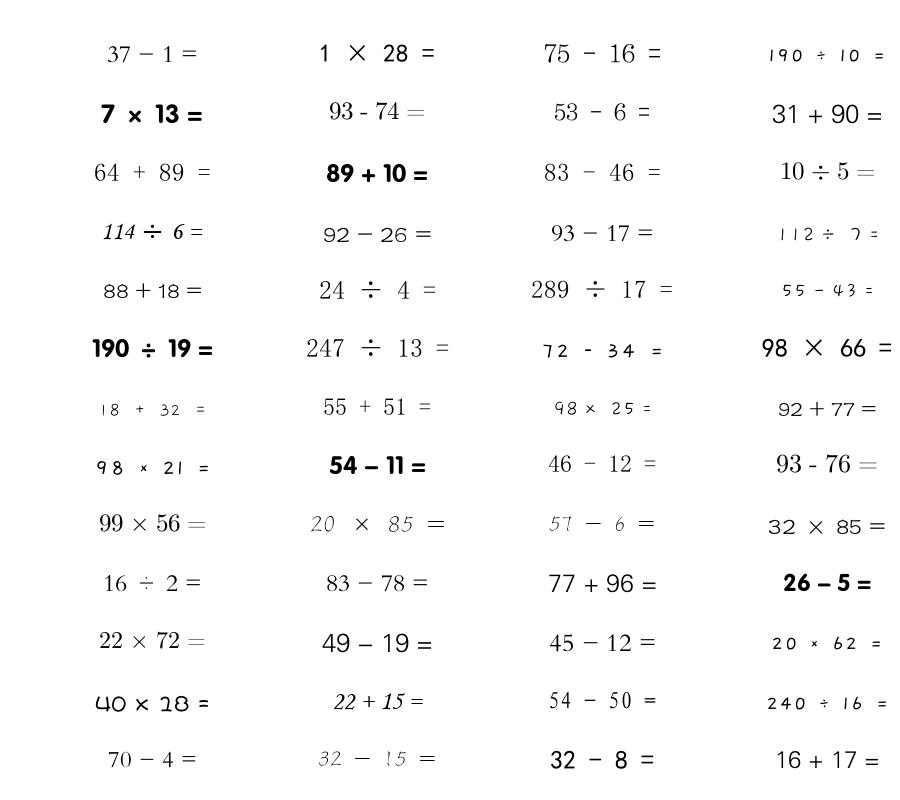MQ: (306, 338, 449, 357), (531, 280, 673, 298), (762, 338, 892, 357), (92, 338, 213, 358), (544, 44, 661, 63), (772, 104, 883, 124), (322, 633, 433, 653), (310, 516, 445, 532), (94, 163, 211, 181), (544, 163, 661, 181), (319, 281, 436, 299), (319, 44, 435, 62), (548, 574, 657, 593), (101, 104, 203, 124), (326, 163, 428, 183), (775, 750, 880, 769), (550, 750, 654, 769), (95, 695, 210, 712), (548, 691, 656, 709), (329, 455, 426, 475), (776, 454, 878, 473), (99, 514, 206, 532), (99, 631, 206, 649), (549, 634, 656, 652), (318, 751, 436, 767), (323, 398, 431, 415), (548, 455, 656, 472), (768, 519, 886, 534), (94, 460, 211, 475), (551, 225, 654, 242), (326, 575, 429, 592), (101, 223, 203, 240), (329, 102, 425, 120), (554, 103, 650, 121), (541, 344, 664, 358), (766, 696, 889, 710), (780, 162, 875, 180), (549, 516, 655, 532), (103, 282, 202, 299), (103, 575, 202, 592), (783, 573, 871, 592), (323, 227, 432, 242), (778, 401, 876, 417), (771, 636, 883, 650), (107, 46, 198, 63), (332, 693, 423, 710), (776, 227, 879, 242), (768, 49, 886, 62), (98, 403, 207, 417), (108, 751, 197, 768), (553, 401, 652, 416), (781, 283, 874, 298)
